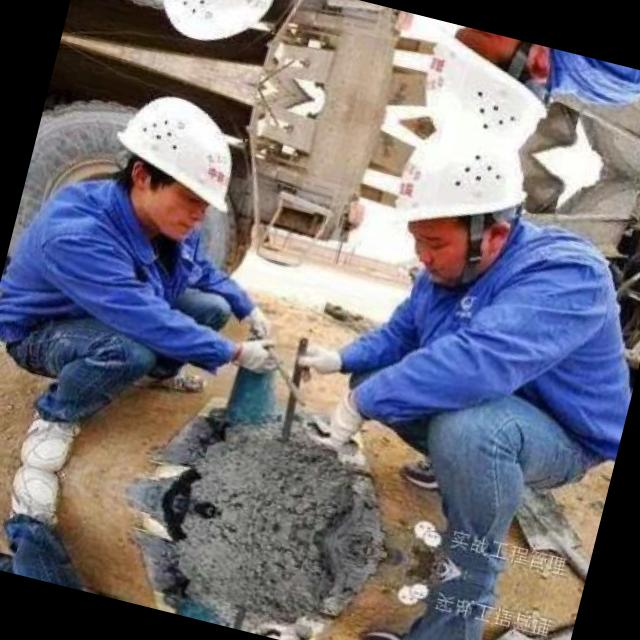helmet: (364, 120, 546, 300), (87, 75, 260, 254), (399, 17, 573, 160), (133, 0, 293, 67)
